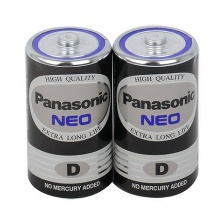battery: (21, 25, 117, 203), (109, 22, 202, 201)
